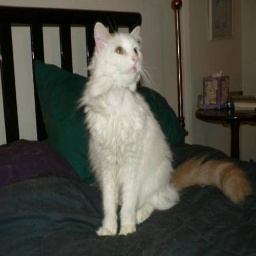cat: (79, 21, 244, 234)
